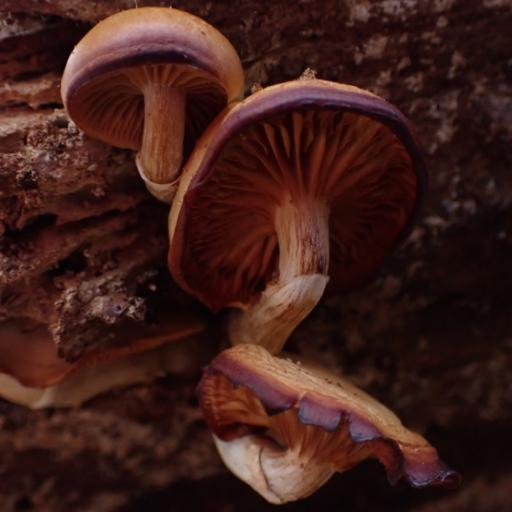mushroom: (49, 5, 435, 331), (188, 337, 459, 506)
